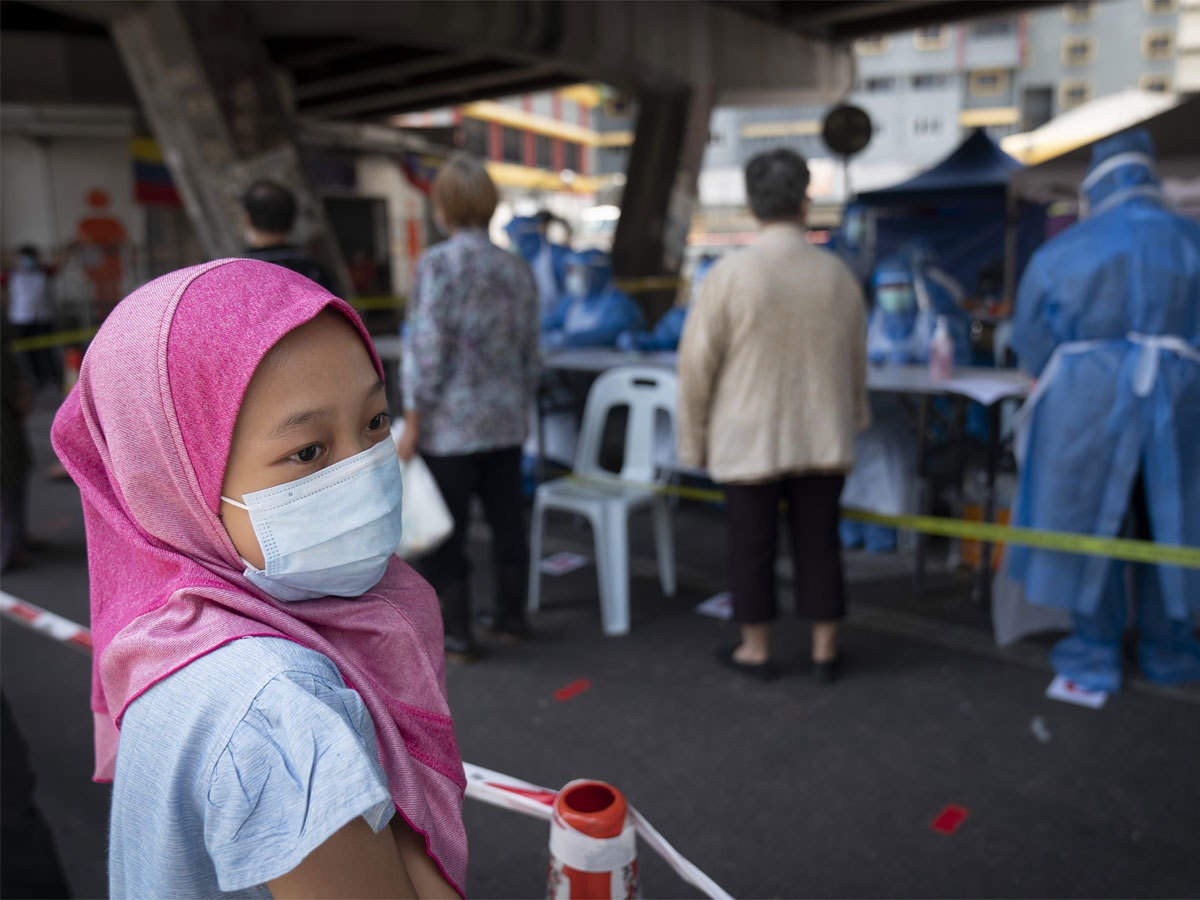Coverall: (1006, 130, 1200, 677)
with_mask: (242, 397, 404, 605)
